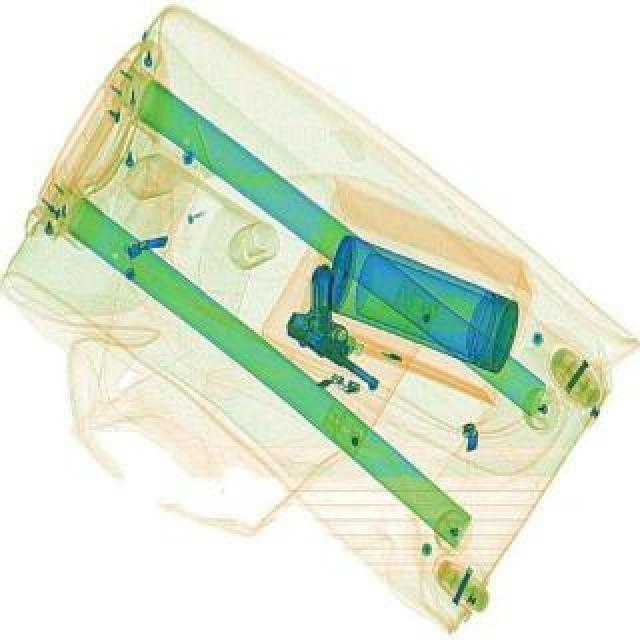gun: (268, 260, 424, 394)
